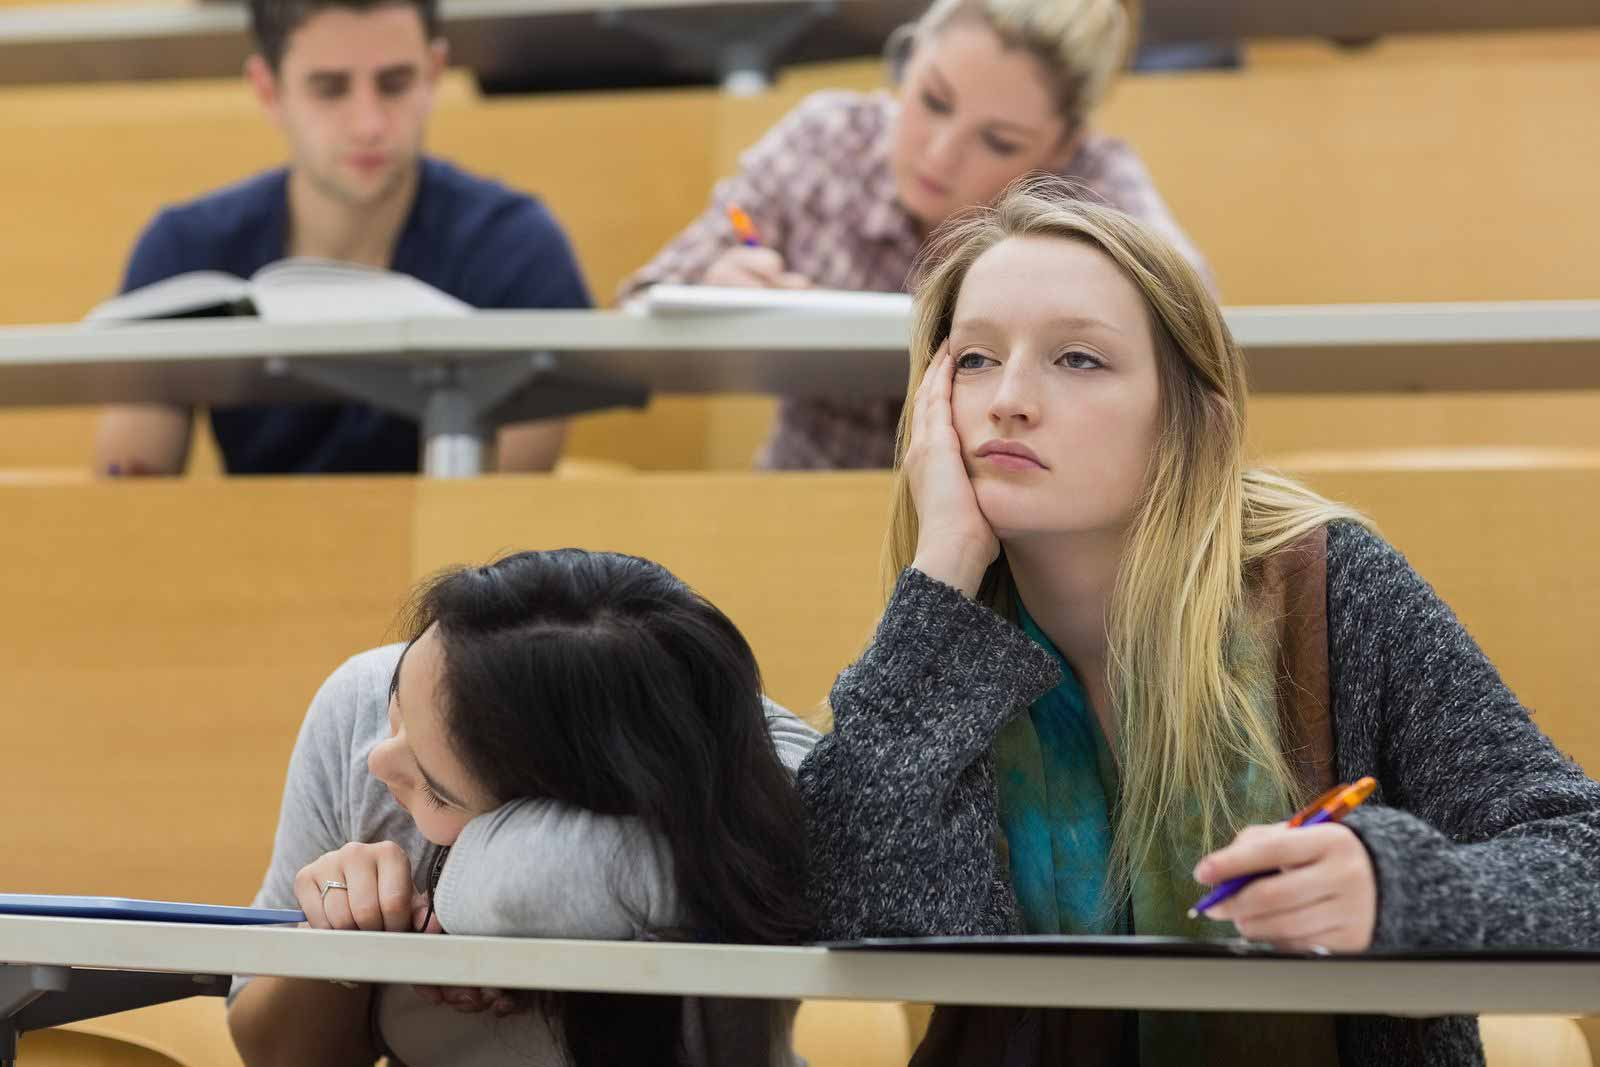students: (802, 173, 1598, 1060), (226, 544, 828, 1066), (616, 1, 1213, 472), (91, 1, 594, 477)
